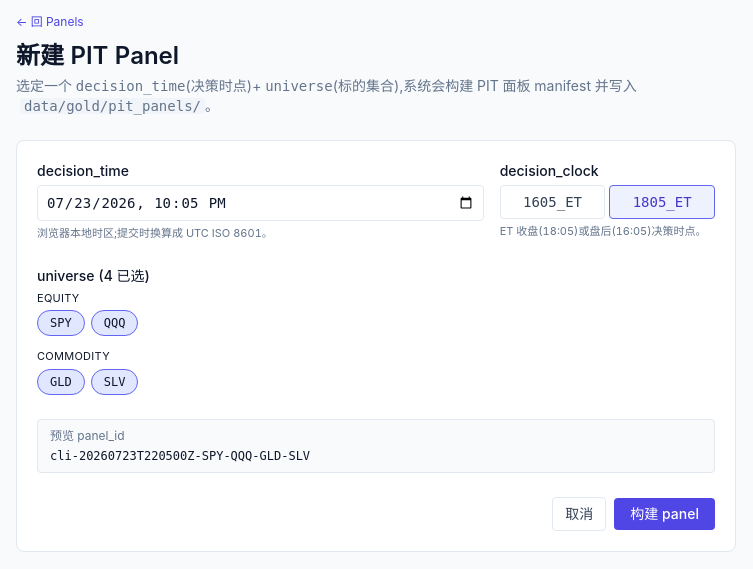
Scenario: /panels/new (build panel form) › disables the submit button when the universe becomes empty
The image size is (753, 569).
Expected: the button "GLD" is shown, [37, 368, 85, 394]
What coordinates should you click on to do the following:
click the button "SPY"
I would click on:
 (61, 323)
Its box is [37, 310, 85, 336].
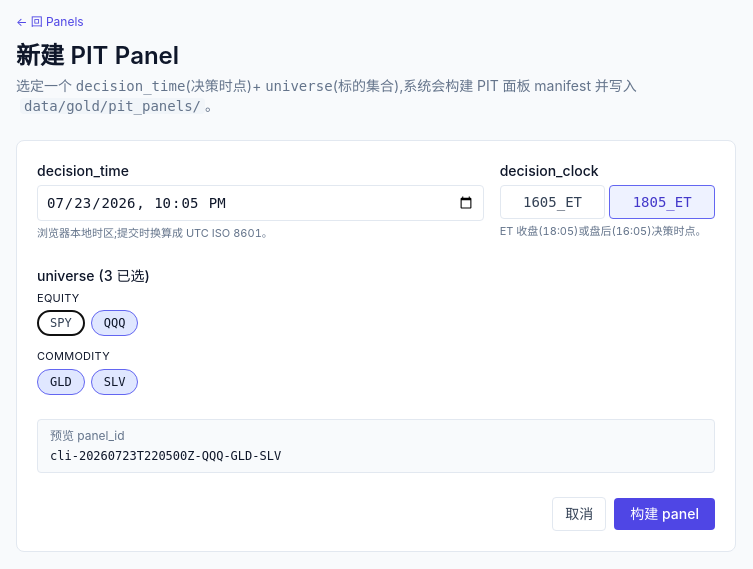
What coordinates should you click on to do the following:
click the button "QQQ"
I would click on:
 (115, 323)
Its box is [91, 310, 138, 336].
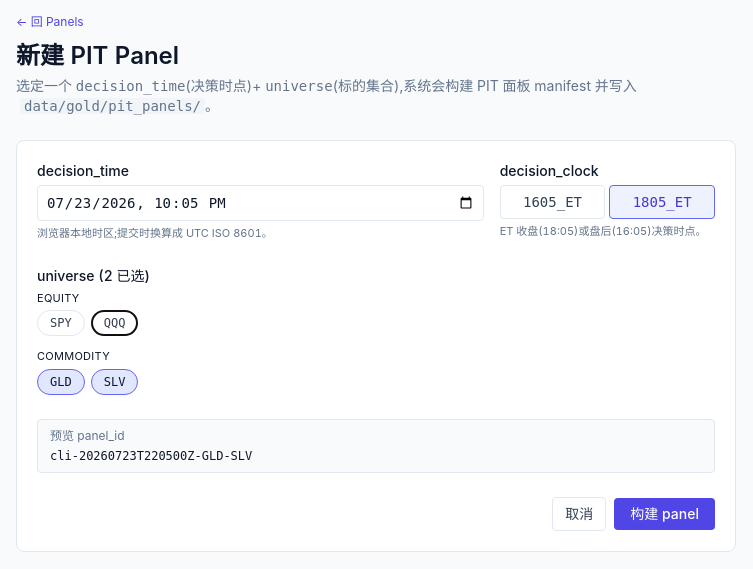
What coordinates should you click on to do the following:
click the button "GLD"
I would click on:
 (61, 382)
Its box is [37, 368, 85, 394].
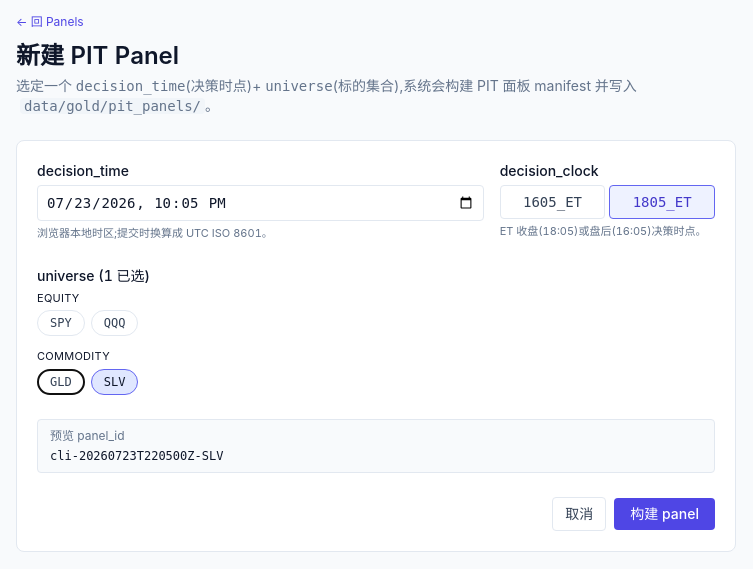
What coordinates should you click on to do the following:
click the button "SLV"
I would click on:
 (115, 382)
Its box is [91, 368, 138, 394].
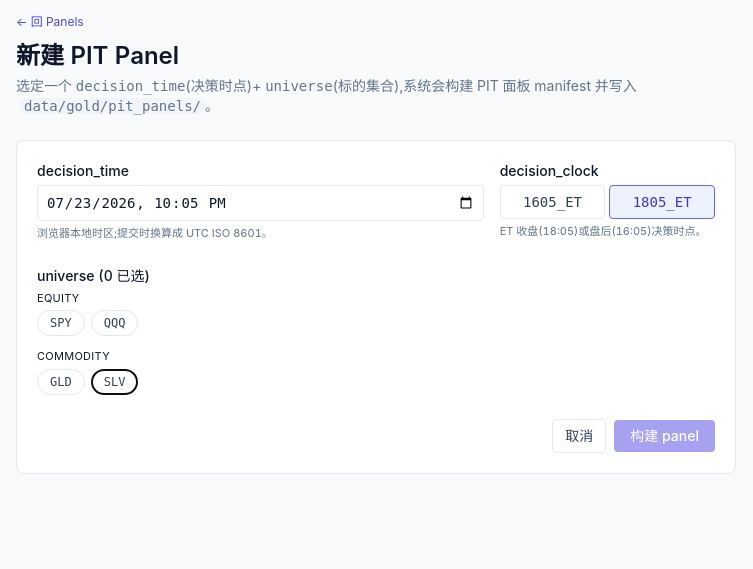
Result: the button "构建 panel" is disabled at [614, 420, 715, 452]
